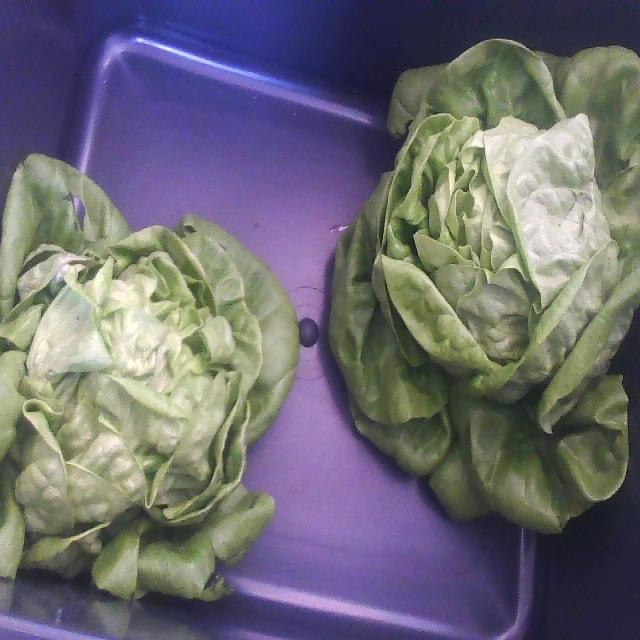Lettuce-plant: (329, 40, 639, 532), (0, 156, 298, 599)
